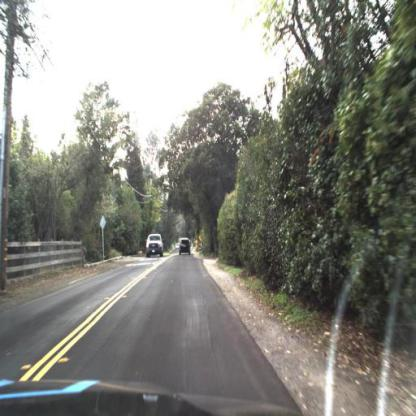car: (144, 231, 166, 262), (179, 236, 193, 259)
